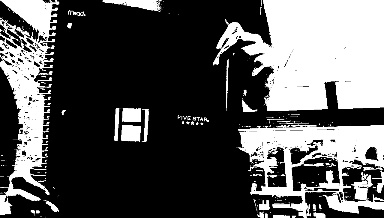H: (115, 107, 146, 141)
